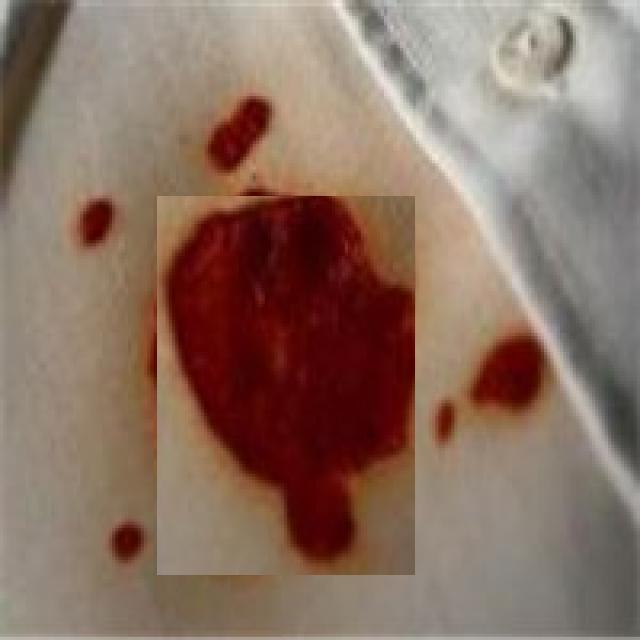Corrosion: (170, 196, 415, 548), (473, 336, 545, 408), (208, 97, 272, 172), (81, 199, 112, 246), (112, 523, 143, 562), (436, 403, 456, 444)
